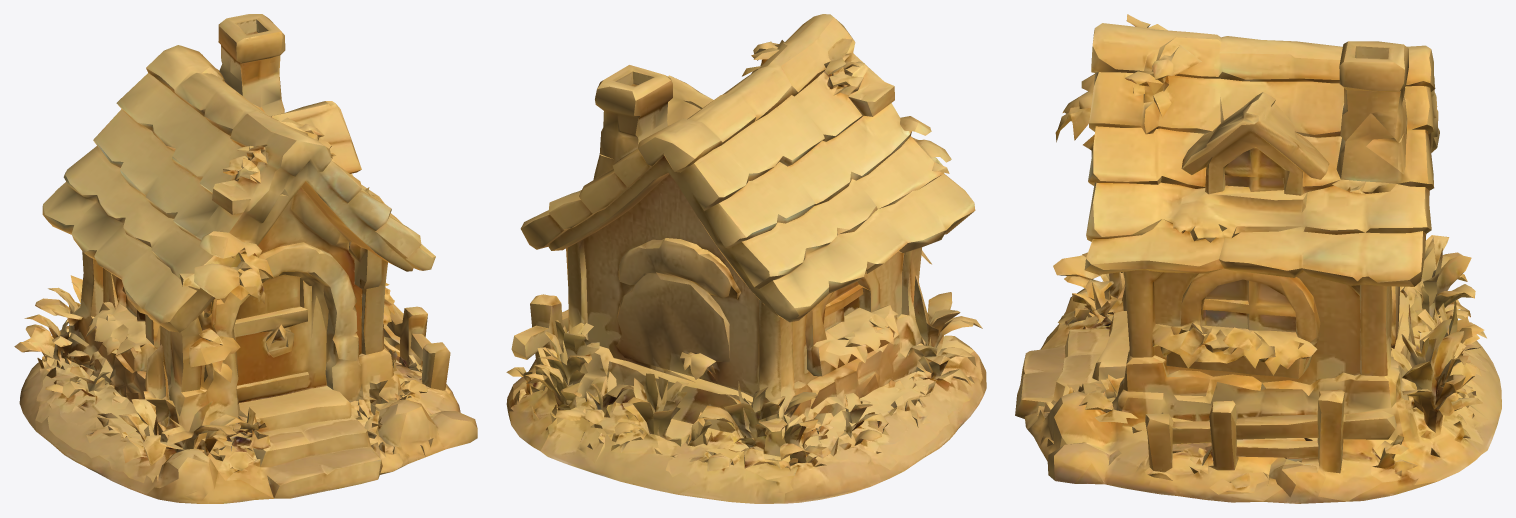
Rendered from house-gold.glb.
3 views of the same model, side by side, from view 1: azimuth 30°, elevation 25°; view 2: azimuth 150°, elevation 25°; view 3: azimuth 270°, elevation 25° (orthographic). The views are drawn at different scales.
Visible parts, largest first — view 1: geometry_0; view 2: geometry_0; view 3: geometry_0.
Part boxes in pixels (x1,y1,x2,y2): geometry_0: (14,14,477,503); geometry_0: (506,14,986,503); geometry_0: (1015,14,1501,503).
Bounding box in the file's own units: 0.2305 × 0.2 × 0.2309.
1 material, 1 textured.
